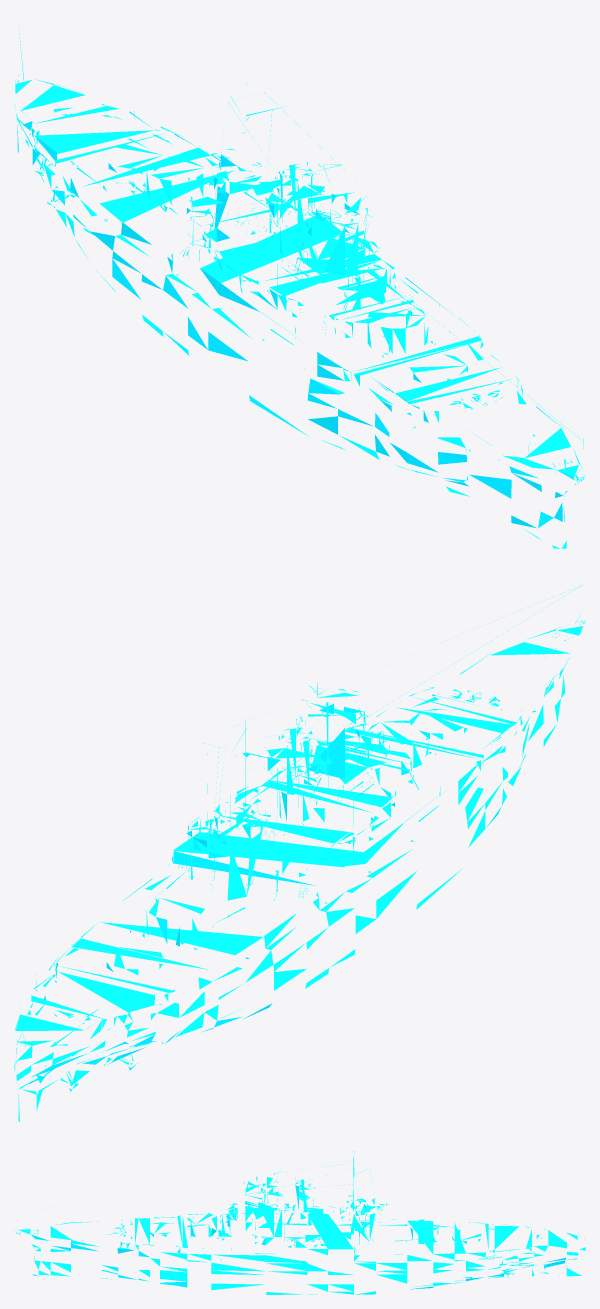
The model's file is New_Mexico.glb.
The picture shows the model from 3 angles, top to bottom: view 1: azimuth 30°, elevation 25°; view 2: azimuth 150°, elevation 25°; view 3: azimuth 270°, elevation 25°; orthographic projection. The views are drawn at different scales.
Bounding box in the file's own units: 2.17 × 3.05 × 12.65.
